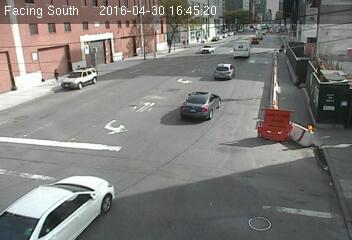neg: (164, 78, 190, 112), (217, 52, 229, 67), (131, 68, 140, 80)
pos: (48, 65, 61, 82), (277, 42, 287, 55)
